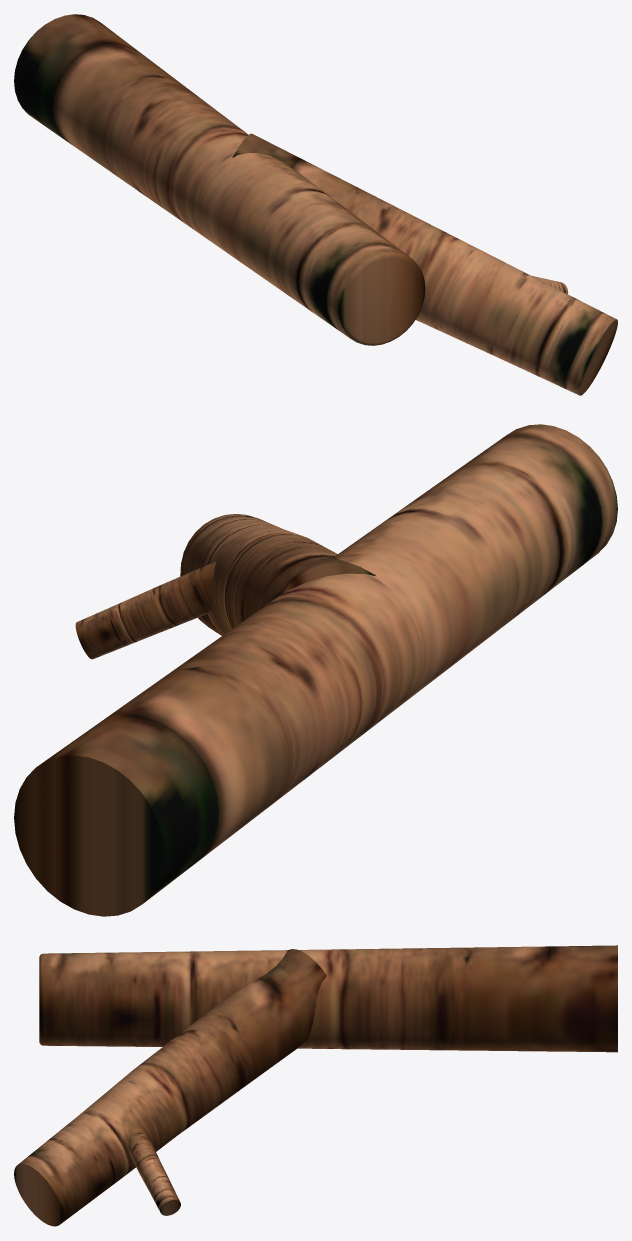
File: batang singkong.fbx
3 renders of one model, top to bottom at view 1: azimuth 30°, elevation 25°; view 2: azimuth 150°, elevation 25°; view 3: azimuth 270°, elevation 25°, orthographic. The views are drawn at different scales.
Visible parts, largest first — view 1: Batang singkong.001; view 2: Batang singkong.001; view 3: Batang singkong.001.
Part boxes in pixels (x1,y1,x2,y2): Batang singkong.001: [14, 14, 617, 395]; Batang singkong.001: [14, 424, 617, 916]; Batang singkong.001: [14, 945, 617, 1226].
Bounding box in the file's own units: 0.1512 × 0.0953 × 0.2839.
Materials: 1 (1 with a texture image).
